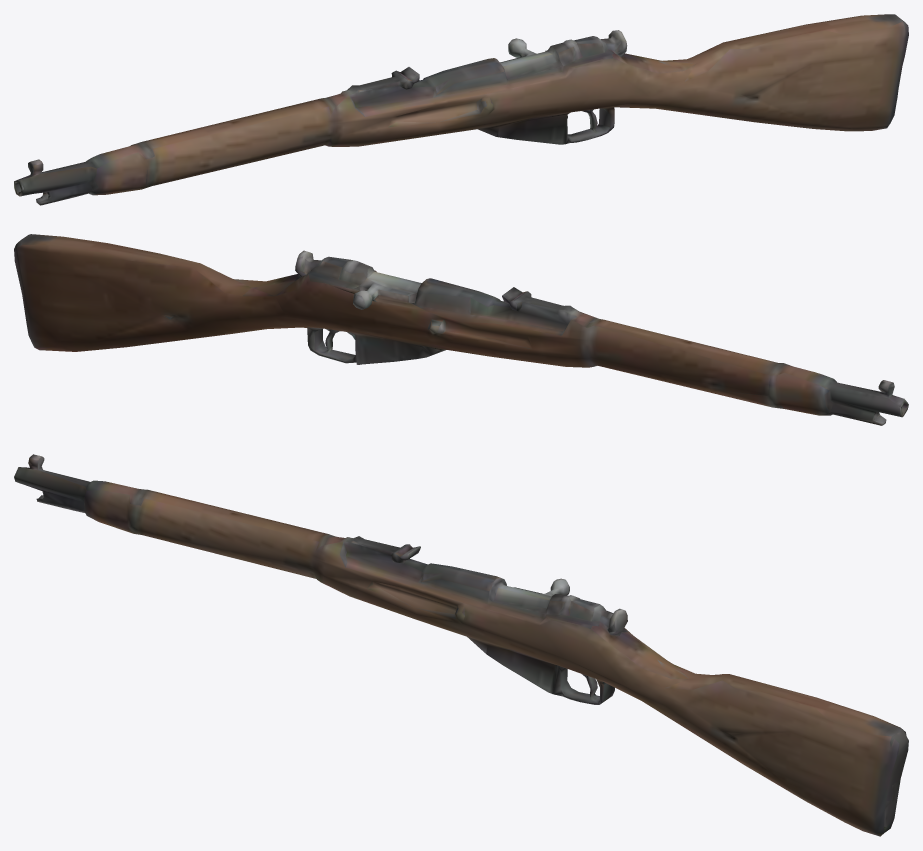
File: rifle.glb
3 views of the same model, one above another, from view 1: azimuth 30°, elevation 25°; view 2: azimuth 150°, elevation 25°; view 3: azimuth 330°, elevation 25° (orthographic).
Visible parts, largest first — view 1: Mesh1.0; view 2: Mesh1.0; view 3: Mesh1.0.
Boxes of the visible parts, x1,y1,x2,y2 form: Mesh1.0: (14,14,908,205); Mesh1.0: (14,234,908,425); Mesh1.0: (14,454,908,836).
Bounding box in the file's own units: 1.91 × 0.3558 × 0.1579.
Materials: 1 (1 with a texture image).
